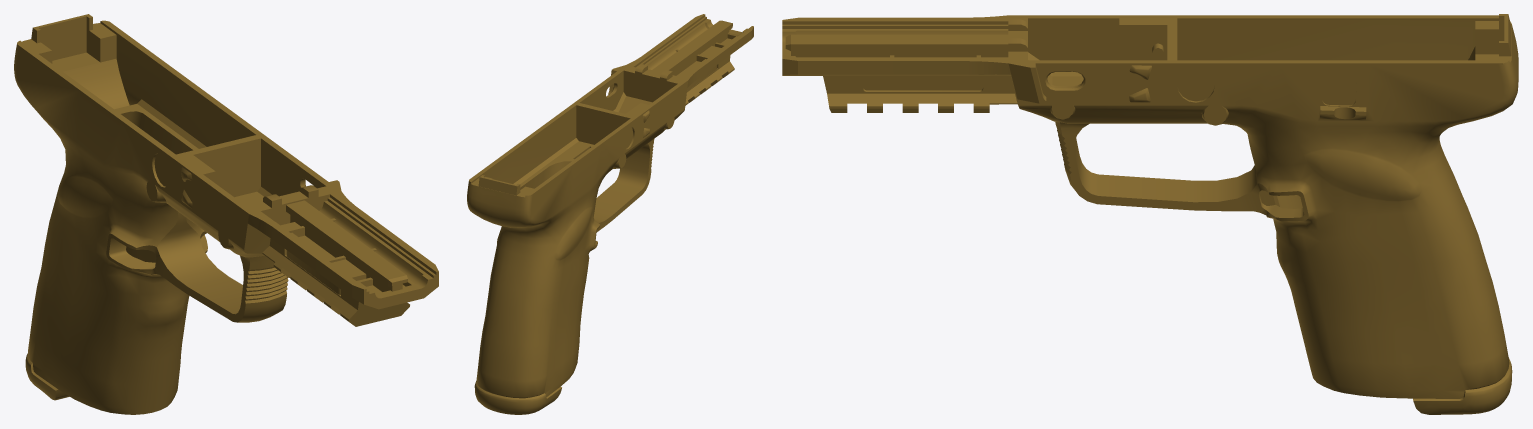
File: goingINSANE.fbx
3 views of the same model, side by side, from view 1: azimuth 30°, elevation 25°; view 2: azimuth 150°, elevation 25°; view 3: azimuth 270°, elevation 25° (orthographic). The views are drawn at different scales.
Visible parts, largest first — view 1: weapon_fn_five_seven_57x28_LOD0; view 2: weapon_fn_five_seven_57x28_LOD0; view 3: weapon_fn_five_seven_57x28_LOD0.
Boxes of the visible parts, x1,y1,x2,y2 form: weapon_fn_five_seven_57x28_LOD0: [14, 14, 438, 414]; weapon_fn_five_seven_57x28_LOD0: [467, 14, 753, 414]; weapon_fn_five_seven_57x28_LOD0: [782, 14, 1518, 414].
Bounding box in the file's own units: 3.67 × 11.3 × 20.7.
